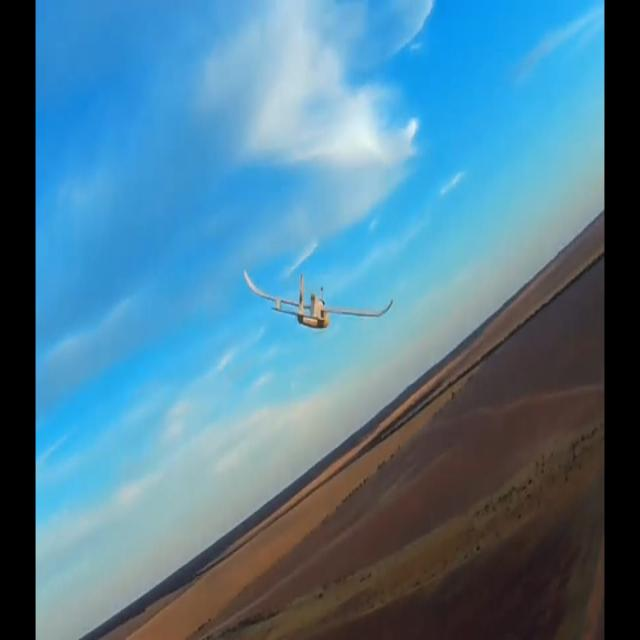iha: (244, 268, 393, 330)
